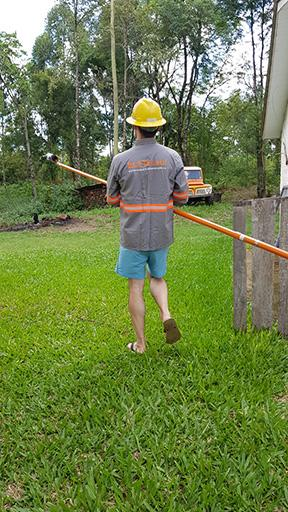Capacete: (125, 94, 166, 138)
Vara_Manobra: (58, 159, 288, 256)
